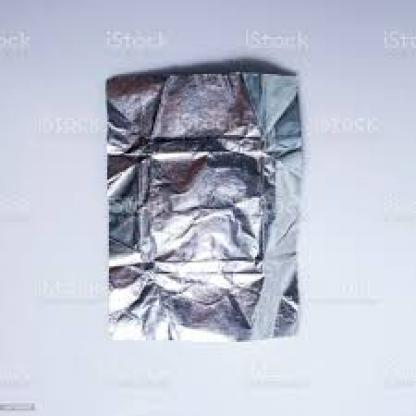METAL: (104, 70, 300, 344)
